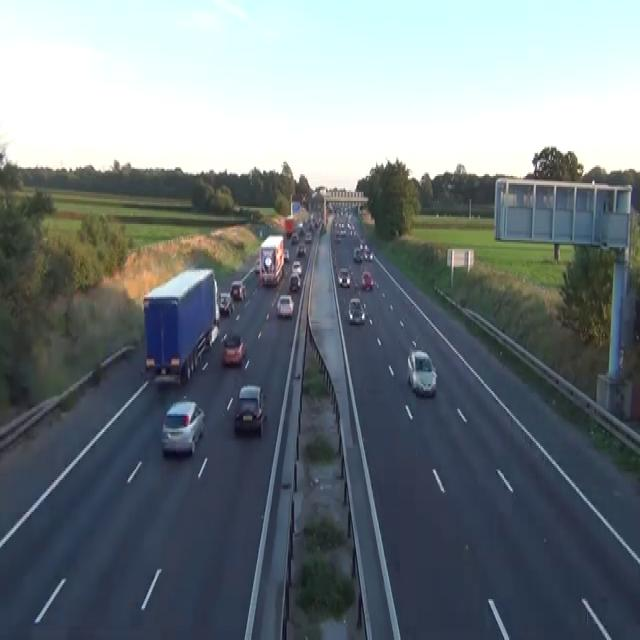Car: (161, 398, 205, 455), (234, 384, 266, 436), (407, 351, 437, 396), (221, 330, 246, 364), (348, 297, 366, 323), (276, 294, 294, 318), (353, 240, 373, 261), (218, 292, 234, 314), (230, 279, 245, 301), (337, 267, 351, 286), (207, 324, 218, 346), (361, 270, 373, 290), (360, 243, 372, 260), (289, 272, 300, 290), (292, 260, 302, 276), (214, 300, 220, 326), (353, 247, 362, 261), (296, 244, 305, 256), (254, 258, 260, 274), (304, 231, 312, 242), (283, 247, 289, 261), (334, 231, 341, 242), (291, 231, 298, 242), (320, 222, 326, 233), (297, 222, 303, 231), (369, 250, 373, 260)
Truck: (142, 267, 220, 384), (259, 235, 284, 286)
